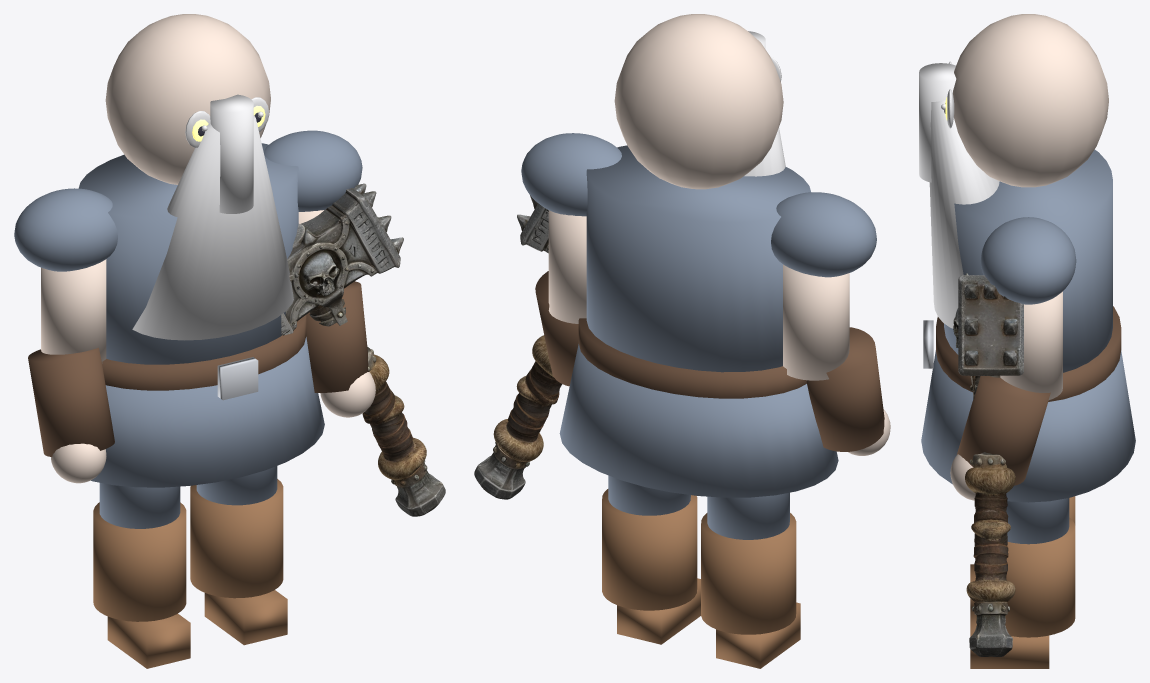
Rendered from hero_berserker.glb.
3 views of the same model, side by side, from view 1: azimuth 30°, elevation 25°; view 2: azimuth 150°, elevation 25°; view 3: azimuth 270°, elevation 25° (orthographic). The views are drawn at different scales.
Visible parts, largest first — view 1: Cone.001, Cone, Sphere, material, Cylinder.001, Cylinder.004, Cylinder.006, Cylinder.008, Sphere.007, Cylinder.007, Sphere.009, Cylinder.002 (+9 smaller); view 2: Cylinder.001, Cone.001, Sphere, Cylinder.004, Cylinder.006, Sphere.007, material, Cylinder.007, Cylinder.008, Cylinder.002, Sphere.009, Cylinder.009 (+6 smaller); view 3: Sphere, Cylinder.001, Cone.001, material, Cone, Sphere.009, Cylinder.006, Cylinder.010, Cylinder.009, Cylinder.002, Cylinder.005, Cylinder (+3 smaller).
Part boxes in pixels (x1,y1,x2,y2): Cone.001: (91, 337, 324, 487); Cone: (132, 115, 293, 340); Sphere: (105, 14, 270, 184); material: (281, 183, 445, 516); Cylinder.001: (78, 143, 298, 364); Cylinder.004: (93, 502, 186, 621); Cylinder.006: (190, 479, 283, 598); Cylinder.008: (28, 347, 114, 456); Sphere.007: (14, 188, 117, 271); Cylinder.007: (41, 259, 106, 363); Sphere.009: (264, 130, 362, 211); Cylinder.002: (102, 315, 306, 390); Cylinder.001: (586, 145, 810, 372); Cone.001: (559, 344, 838, 497); Sphere: (614, 14, 783, 189); Cylinder.004: (701, 513, 796, 634); Cylinder.006: (602, 489, 697, 610); Sphere.007: (771, 192, 876, 277); material: (474, 195, 562, 499); Cylinder.007: (783, 264, 849, 380); Cylinder.008: (806, 327, 884, 451); Cylinder.002: (578, 318, 806, 398); Sphere.009: (521, 133, 621, 216); Cylinder.009: (548, 210, 586, 323); Sphere: (953, 14, 1108, 187); Cylinder.001: (944, 149, 1112, 372); Cone.001: (921, 350, 1135, 502); material: (953, 273, 1023, 656); Cone: (929, 100, 999, 328); Sphere.009: (980, 217, 1076, 304); Cylinder.006: (1005, 517, 1075, 637); Cylinder.010: (957, 376, 1050, 485); Cylinder.009: (1000, 291, 1062, 400); Cylinder.002: (936, 306, 1121, 401); Cylinder.005: (1006, 498, 1069, 544); Cylinder: (919, 63, 956, 182).
Size of the model in its own units: 0.7463 by 1.08 by 0.3466.
Materials: 10 (1 with a texture image).
